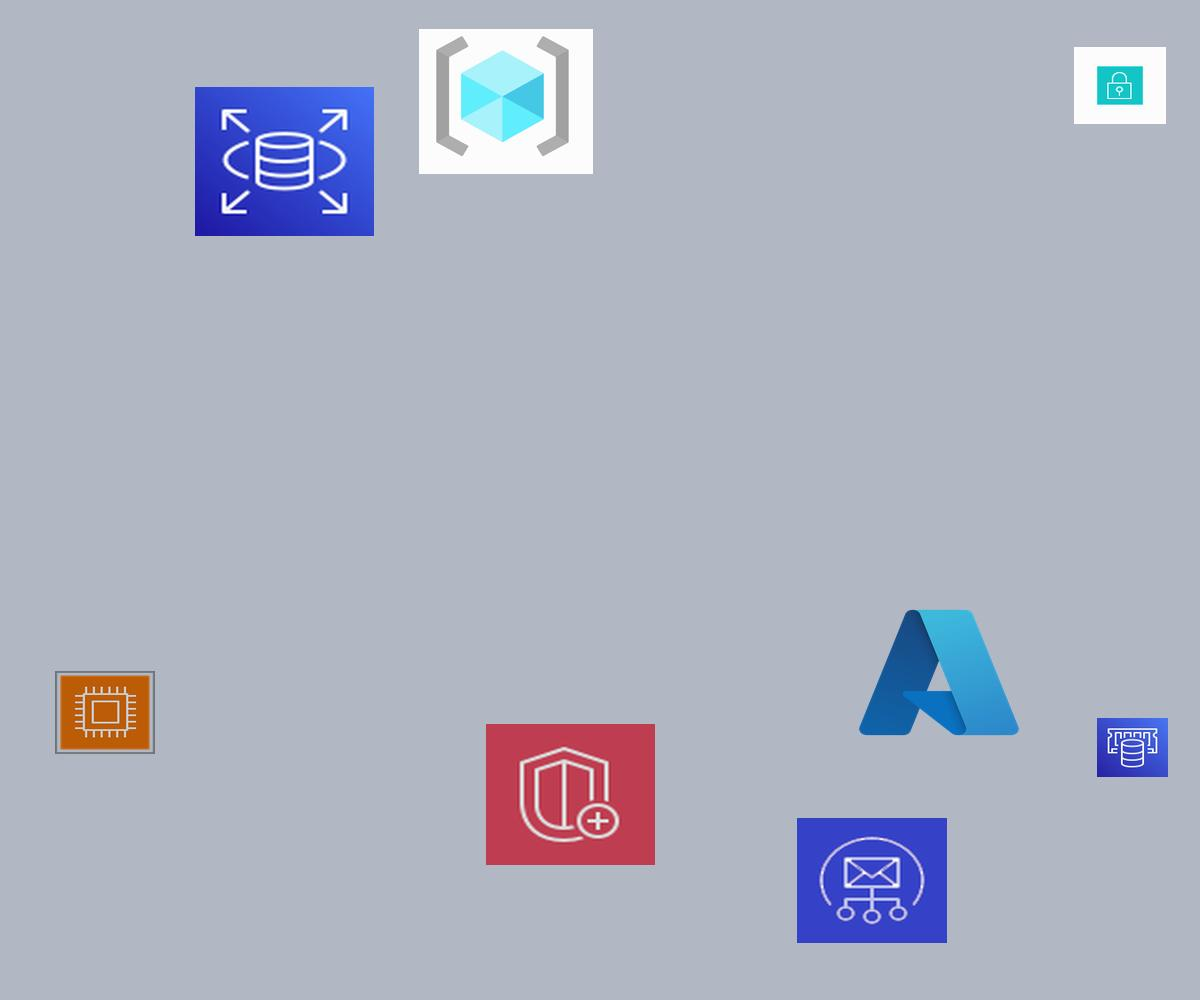AWS-Category_Compute: (55, 671, 155, 754)
AWS-ElastiCache: (1097, 718, 1168, 777)
AWS-Private-subnet: (1074, 47, 1166, 124)
AWS-RDS: (195, 87, 374, 236)
AWS-Shield: (486, 724, 655, 865)
AWS-Simple-Email-Service: (797, 818, 947, 943)
Azure_resource_group: (419, 29, 593, 174)
Azure_services: (852, 600, 1026, 745)
